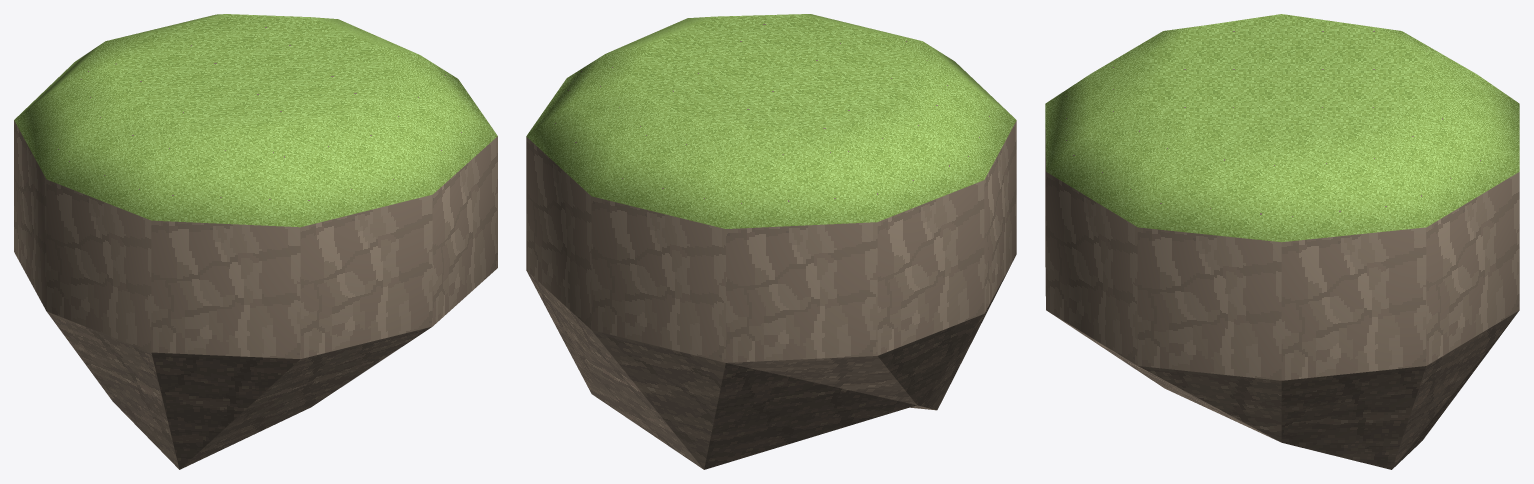
File: 0275_Jellyfish_Mountain.glb
3 renders of one model, left to right at view 1: azimuth 30°, elevation 25°; view 2: azimuth 150°, elevation 25°; view 3: azimuth 270°, elevation 25°, orthographic. The views are drawn at different scales.
Visible parts, largest first — view 1: part_0; view 2: part_0; view 3: part_0.
Part boxes in pixels (x1,y1,x2,y2): part_0: [14, 14, 497, 469]; part_0: [526, 14, 1016, 469]; part_0: [1045, 14, 1519, 469].
Bounding box in the file's own units: 192 × 153 × 183.
1 material, 1 textured.
